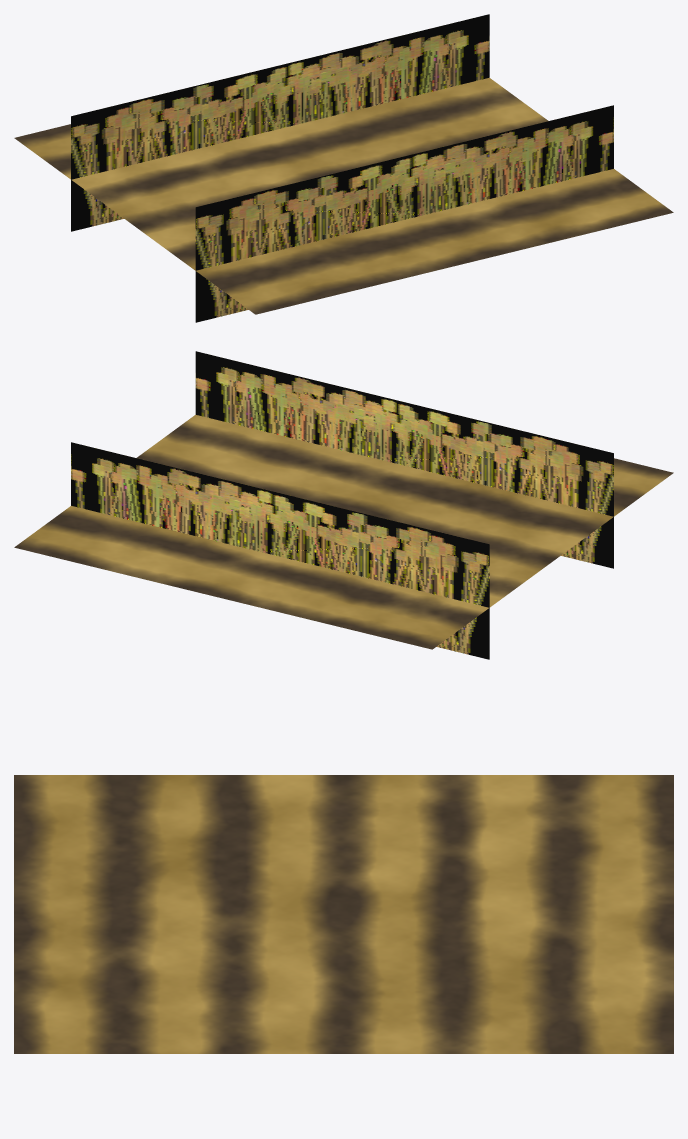
Rendered from Crop_Wheat_1_LOD2.gltf.
3 renders of one model, top to bottom at view 1: azimuth 30°, elevation 25°; view 2: azimuth 150°, elevation 25°; view 3: azimuth 270°, elevation 25°, orthographic. The views are drawn at different scales.
Parts seen in each view (by area): view 1: Crop_Wheat_1_LOD2; view 2: Crop_Wheat_1_LOD2; view 3: Crop_Wheat_1_LOD2.
Boxes of the visible parts, x1,y1,x2,y2 form: Crop_Wheat_1_LOD2: (14, 14, 673, 322); Crop_Wheat_1_LOD2: (14, 351, 673, 659); Crop_Wheat_1_LOD2: (14, 775, 673, 1053).
Bounding box in the file's own units: 4 × 1.06 × 4.
Materials: 2 (2 with a texture image).
